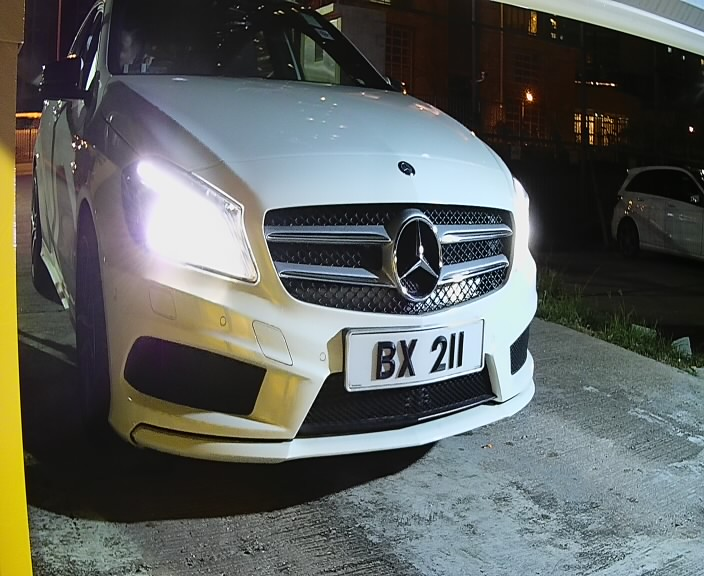Car: (29, 1, 553, 524)
License Plate: (331, 318, 492, 397)
